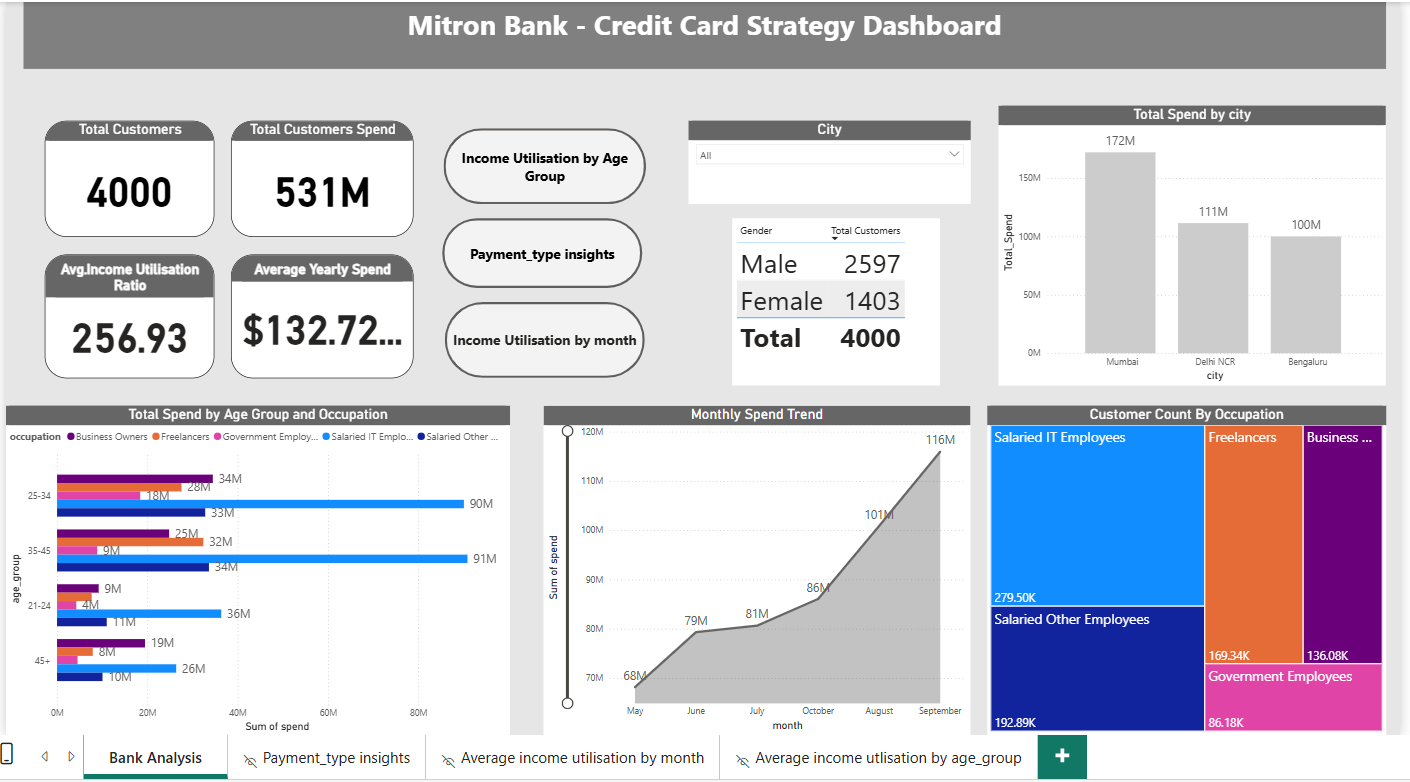

What the dashboard file says about the page in this screenshot:
{"tool":"powerbi","page":{"name":"Bank Analysis","canvas":[1900,1000],"ordinal":0},"visuals":[{"type":"tableEx","fields":{"Values":["dim_customers.gender","MSRES.Total Customers"]},"box":[990.7,295.1,283.1,227.8],"z":0},{"type":"treemap","title":"Customer Count By Occupation","fields":{"Group":["dim_customers.occupation"],"Values":["CountNonNull(fact_spends.customer_id)"]},"box":[1337.7,550.6,543.7,448.8],"z":1000},{"type":"card","title":"Total Customers","fields":{"Values":["MSRES.Total Customers"]},"box":[53.5,162.2,231.3,158.8],"z":2000},{"type":"card","title":"Total Customers Spend","fields":{"Values":["MSRES.Total_Spend"]},"box":[307.2,162.2,248.5,158.8],"z":3000},{"type":"card","title":"Average Yearly Spend","fields":{"Values":["MSRES.Avg_Spend_Per_Customer"]},"box":[307.2,343.5,248.5,169.2],"z":4000},{"type":"card","title":"Avg.Income Utilisation Ratio","fields":{"Values":["MSRES.Average_Income_Utilisation"]},"box":[53.5,343.5,231.3,169.2],"z":5000},{"type":"clusteredBarChart","title":"Total Spend by Age Group and Occupation","fields":{"Category":["dim_customers.age_group"],"Series":["dim_customers.occupation"],"Y":["Sum(fact_spends.spend)"]},"box":[0,550.6,687,450.5],"z":6000},{"type":"lineChart","title":"Monthly Spend Trend","fields":{"Category":["fact_spends.month"],"Y":["Sum(fact_spends.spend)"]},"box":[733.6,550.6,581.7,448.8],"z":7000},{"type":"slicer","title":"City","fields":{"Values":["dim_customers.city"]},"box":[930.3,162.2,384.9,113.9],"z":8000},{"type":"clusteredColumnChart","title":"Total Spend by city","fields":{"Y":["MSRES.Total_Spend"],"Category":["dim_customers.city"]},"box":[1353.2,141.5,528.2,381.5],"z":9000},{"type":"actionButton","box":[597.2,172.6,276.2,103.6],"z":10000},{"type":"actionButton","box":[595.5,295.1,272.7,94.9],"z":11000},{"type":"actionButton","box":[598.9,409.1,272.7,103.6],"z":12000},{"type":"textbox","box":[24.2,0,1857.2,91.5],"z":13000}]}

Visuals, with their boxes on the page's 1900x1000 design canvas (x1, y1, x2, y2). These are canvas units, not pixel positions in the 1410x782 screenshot, which may show the page scaled, cropped or inside an application window:
tableEx - dim_customers.gender x MSRES.Total Customers: (left=991, top=295, right=1274, bottom=523)
"Customer Count By Occupation" treemap: (left=1338, top=551, right=1881, bottom=999)
"Total Customers" card: (left=54, top=162, right=285, bottom=321)
"Total Customers Spend" card: (left=307, top=162, right=556, bottom=321)
"Average Yearly Spend" card: (left=307, top=344, right=556, bottom=513)
"Avg.Income Utilisation Ratio" card: (left=54, top=344, right=285, bottom=513)
"Total Spend by Age Group and Occupation" clusteredBarChart: (left=0, top=551, right=687, bottom=1001)
"Monthly Spend Trend" lineChart: (left=734, top=551, right=1315, bottom=999)
"City" slicer: (left=930, top=162, right=1315, bottom=276)
"Total Spend by city" clusteredColumnChart: (left=1353, top=142, right=1881, bottom=523)
actionButton: (left=597, top=173, right=873, bottom=276)
actionButton: (left=596, top=295, right=868, bottom=390)
actionButton: (left=599, top=409, right=872, bottom=513)
textbox: (left=24, top=0, right=1881, bottom=92)
